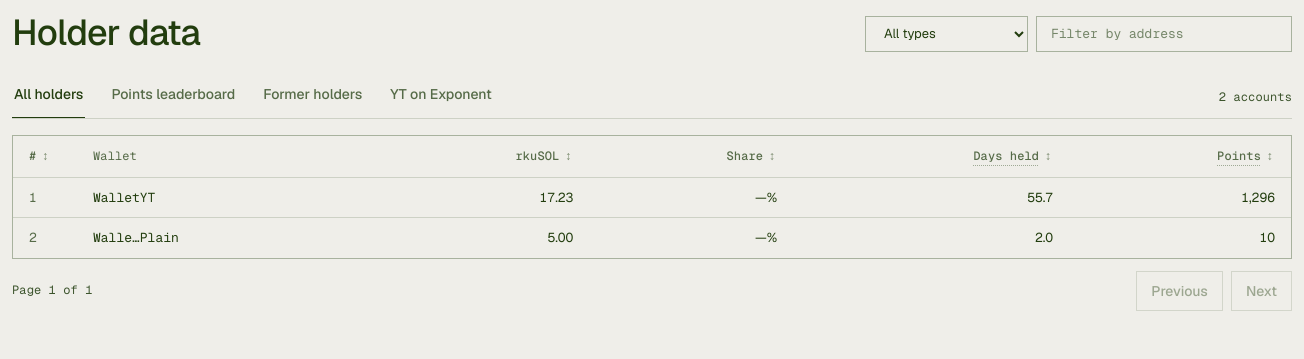
it: YT on Exponent › lists YT stakers in their own tab
Click the tab "YT on Exponent".
click(441, 99)  # box x1=388 y1=80 x2=494 y2=119
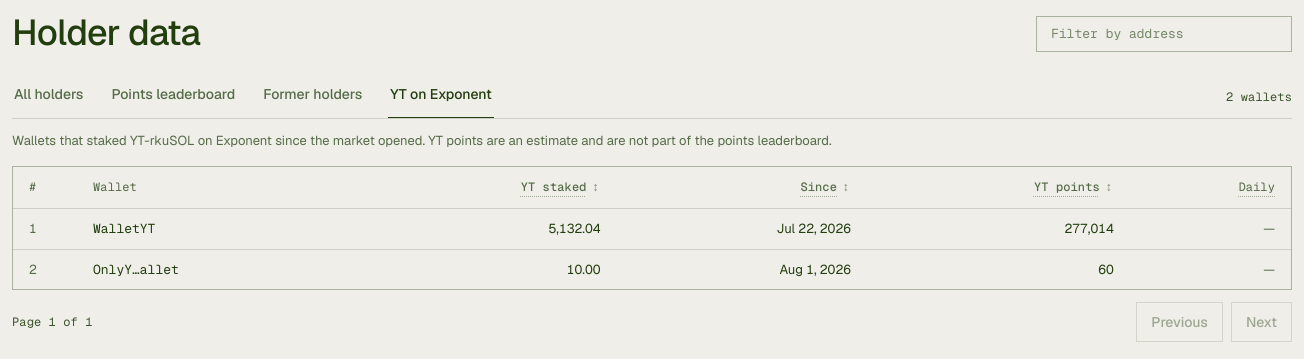
Check: the text "2 wallets" is shown, box x1=1226 y1=89 x2=1292 y2=105
Check: the text "277,014" is shown, box x1=867 y1=209 x2=1130 y2=249
Check: the text "not part of the points leaderboard" is shown, box x1=12 y1=132 x2=832 y2=149
